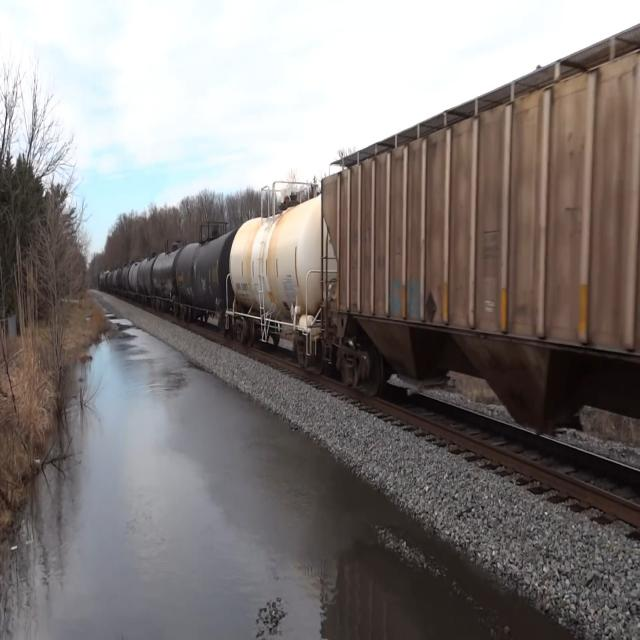hopper: (323, 5, 635, 473)
tank: (227, 179, 327, 377), (176, 224, 237, 337)
